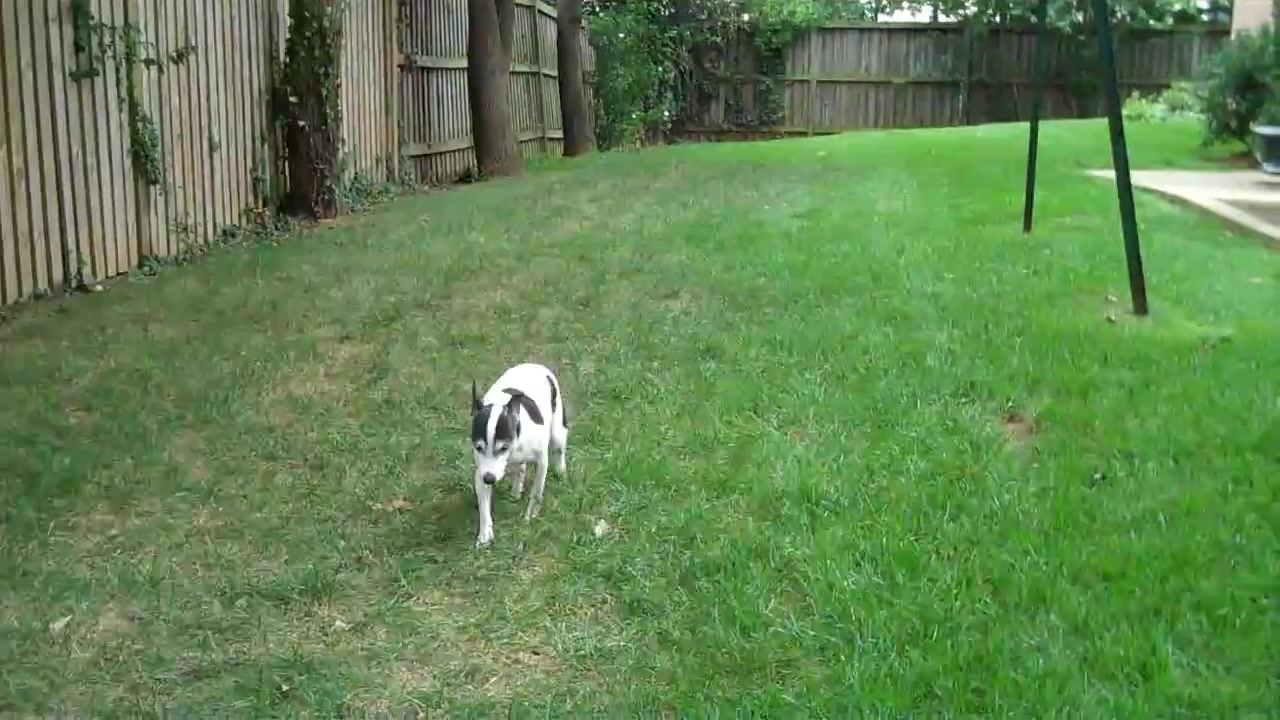dog: (468, 362, 569, 551)
